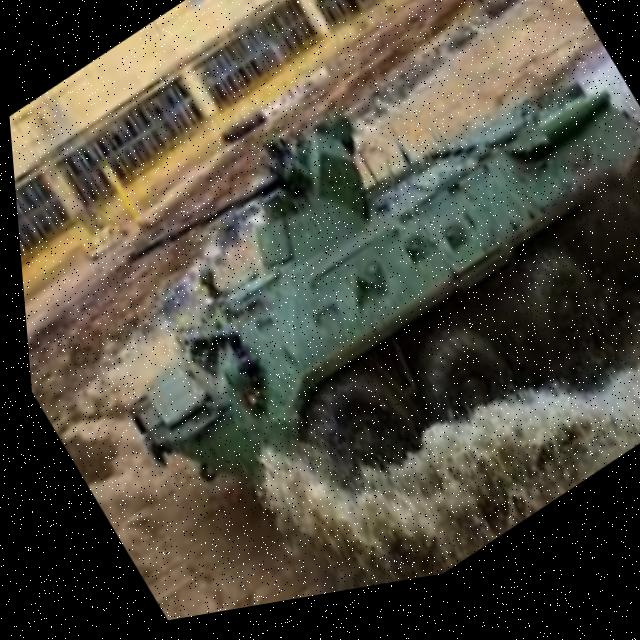MIL_APC: (24, 0, 640, 637)
